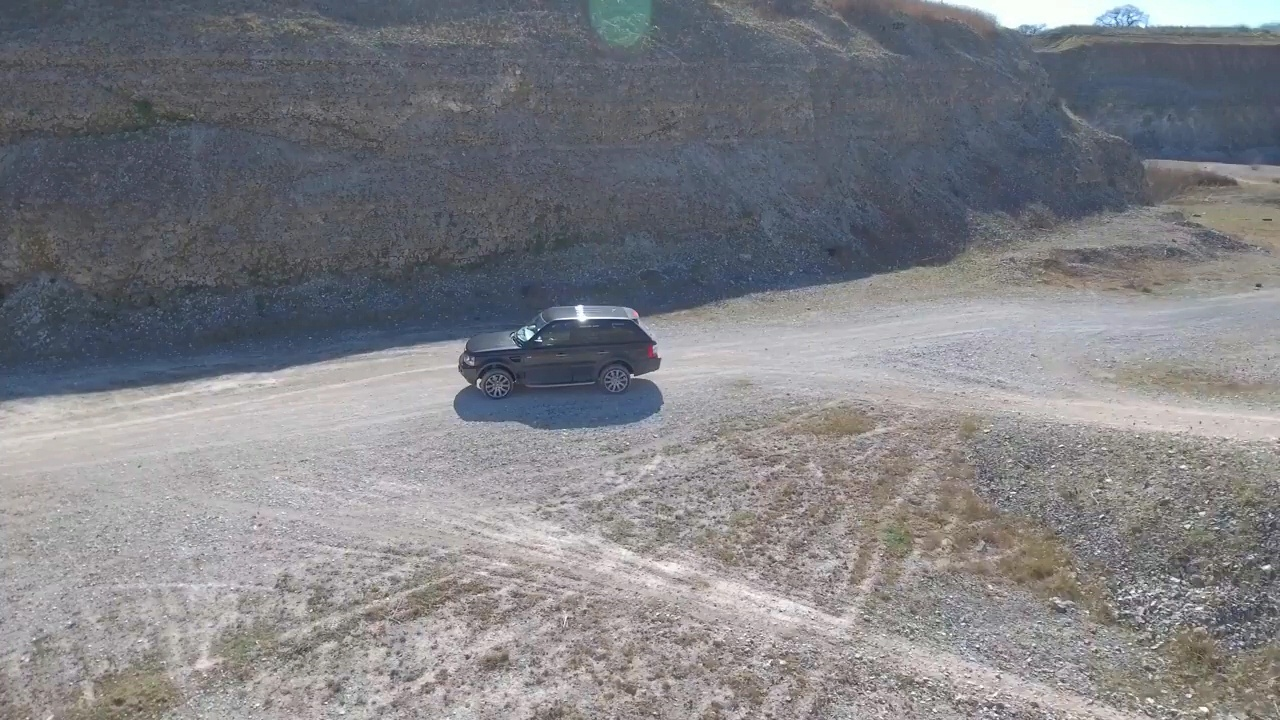araba: (458, 299, 658, 399)
